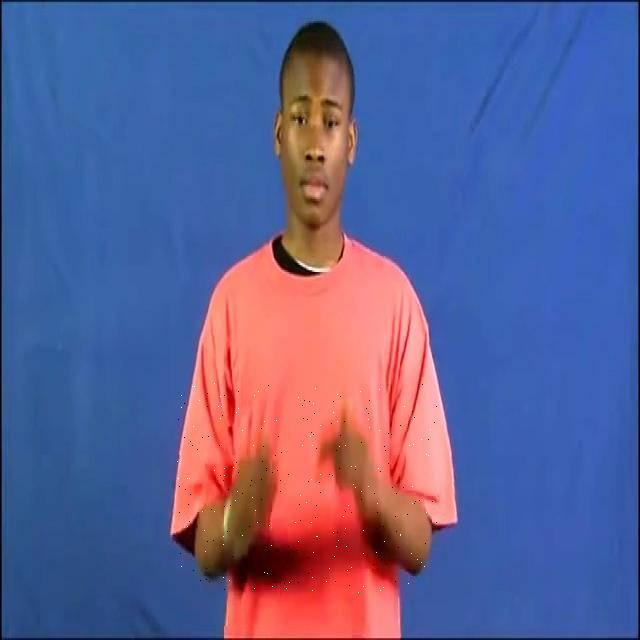bacon: (176, 383, 438, 594)
